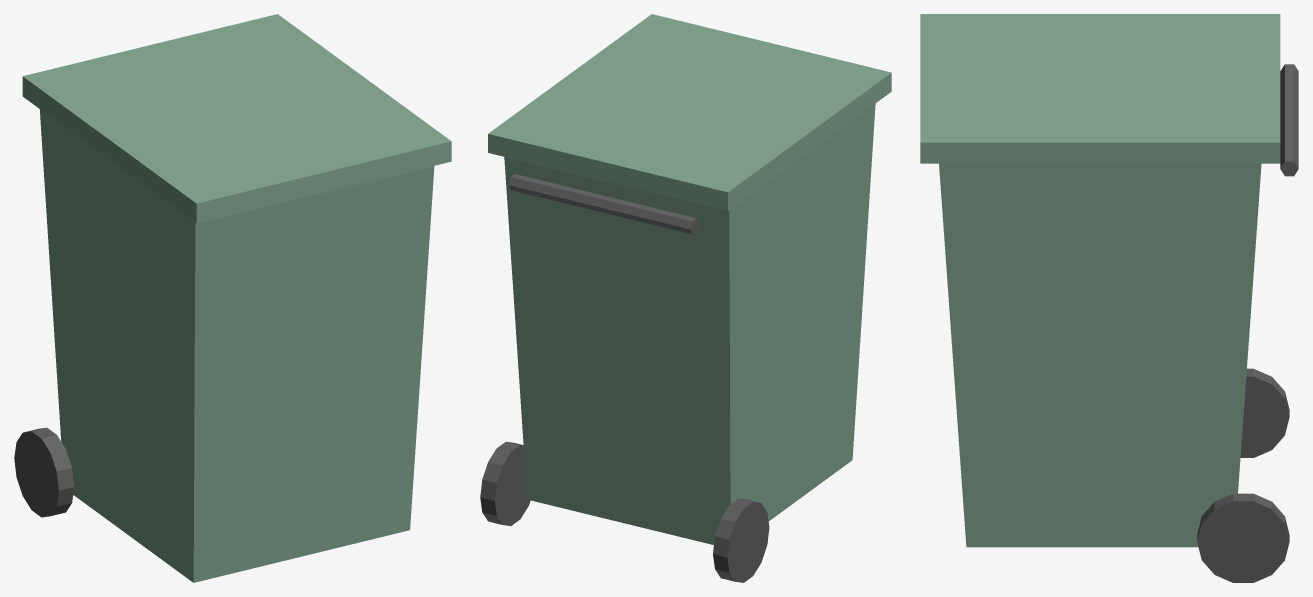
The model's file is wheelie_bin.glb.
3 views of the same model, side by side, from view 1: azimuth 30°, elevation 25°; view 2: azimuth 150°, elevation 25°; view 3: azimuth 270°, elevation 25° (orthographic). The views are drawn at different scales.
Visible parts, largest first — view 1: wheelie_bin_dumpster, wheelie_bin_rubber; view 2: wheelie_bin_dumpster, wheelie_bin_rubber, wheelie_bin_dark; view 3: wheelie_bin_dumpster, wheelie_bin_rubber, wheelie_bin_dark.
Boxes of the visible parts, x1,y1,x2,y2 form: wheelie_bin_dumpster: [22, 14, 451, 582]; wheelie_bin_rubber: [14, 427, 74, 517]; wheelie_bin_dumpster: [488, 14, 891, 544]; wheelie_bin_rubber: [480, 441, 769, 582]; wheelie_bin_dark: [509, 174, 698, 234]; wheelie_bin_dumpster: [920, 14, 1280, 547]; wheelie_bin_rubber: [1197, 368, 1289, 582]; wheelie_bin_dark: [1280, 64, 1298, 176].
Bounding box in the file's own units: 0.68 × 1.05 × 0.82.
